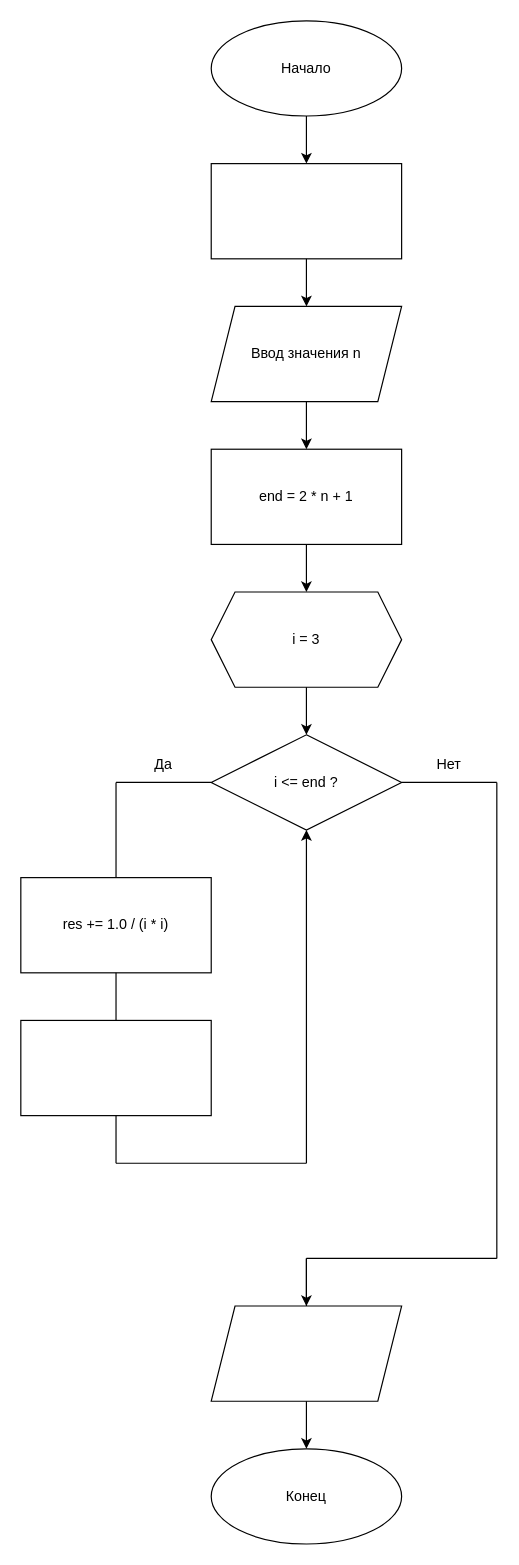
Image size: 519x1565. Some labels were removed from this diagram. Each missing label, with the box of its shape:
Вывод данных: (210, 1305, 402, 1401)
Инициализация double res = 0: (210, 162, 402, 259)
Модификация: i += 2: (20, 1019, 211, 1116)
